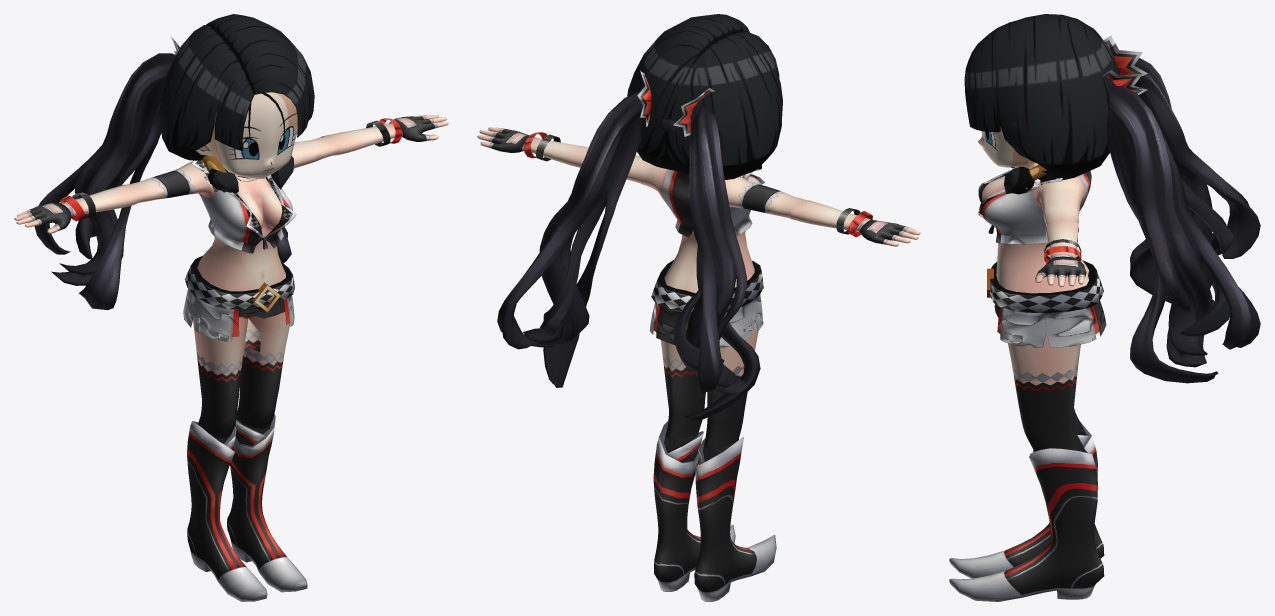
Rendered from tess-highres-lod0.glb.
3 views of the same model, side by side, from view 1: azimuth 30°, elevation 25°; view 2: azimuth 150°, elevation 25°; view 3: azimuth 270°, elevation 25° (orthographic). The views are drawn at different scales.
Visible parts, largest first — view 1: Noire_Idol; view 2: Noire_Idol; view 3: Noire_Idol.
Part boxes in pixels (bbox=[...]): Noire_Idol: bbox=[14, 14, 448, 601]; Noire_Idol: bbox=[477, 14, 920, 601]; Noire_Idol: bbox=[949, 14, 1260, 601].
Bounding box in the file's own units: 2.58 × 3.14 × 1.56.
Materials: 5 (5 with a texture image).
